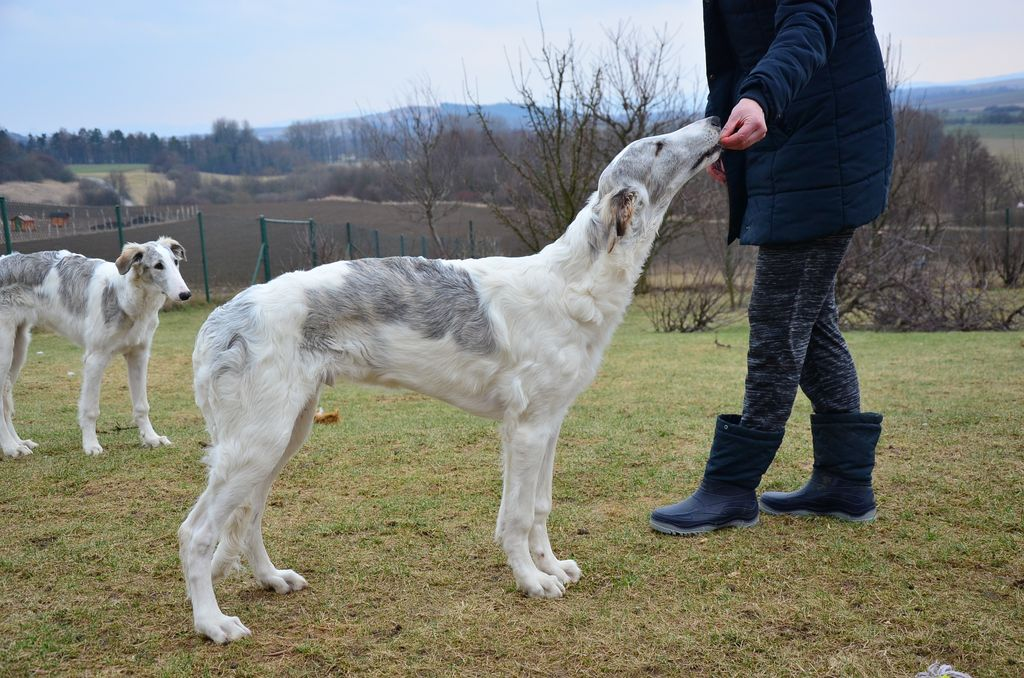borzoi: (161, 98, 736, 649), (0, 235, 195, 463)
